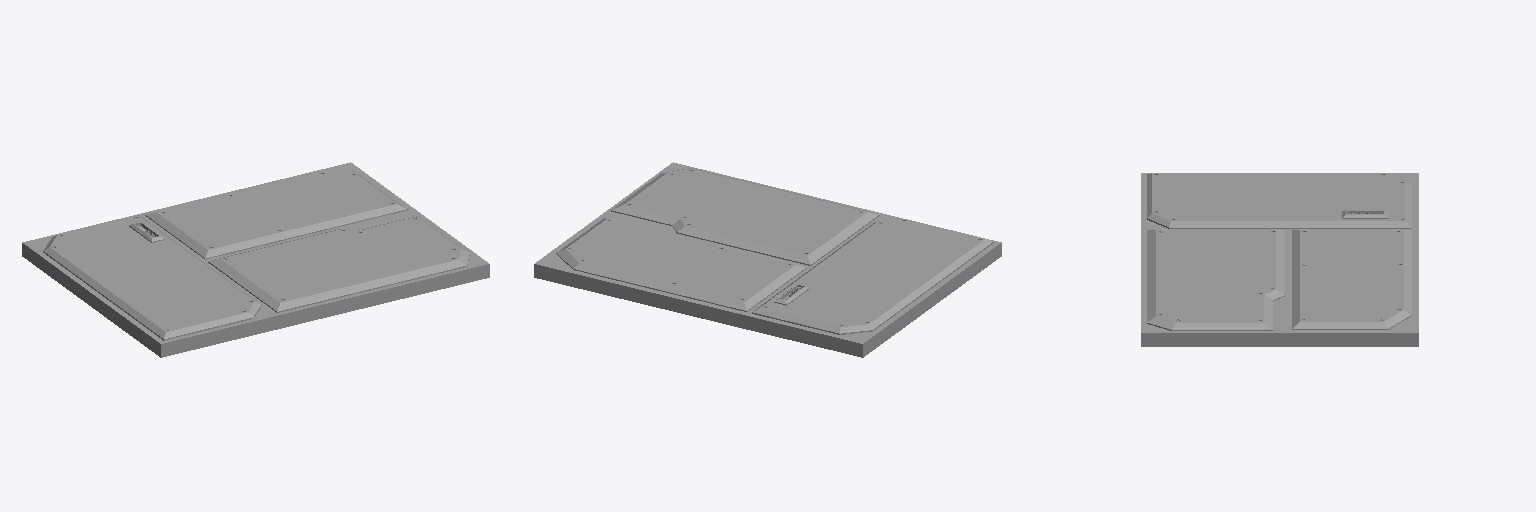
Rendered from s1_middle_panel_3.obj.
3 renders of one model, left to right at view 1: azimuth 30°, elevation 25°; view 2: azimuth 150°, elevation 25°; view 3: azimuth 270°, elevation 25°, orthographic.
Parts seen in each view (by area): view 1: mesh_0; view 2: mesh_0; view 3: mesh_0.
Boxes of the visible parts, <box> form: mesh_0: <box>22,162,489,357</box>; mesh_0: <box>534,162,1001,357</box>; mesh_0: <box>1141,173,1418,346</box>.
Size of the model in its own units: 38.16 by 2.44 by 27.9.